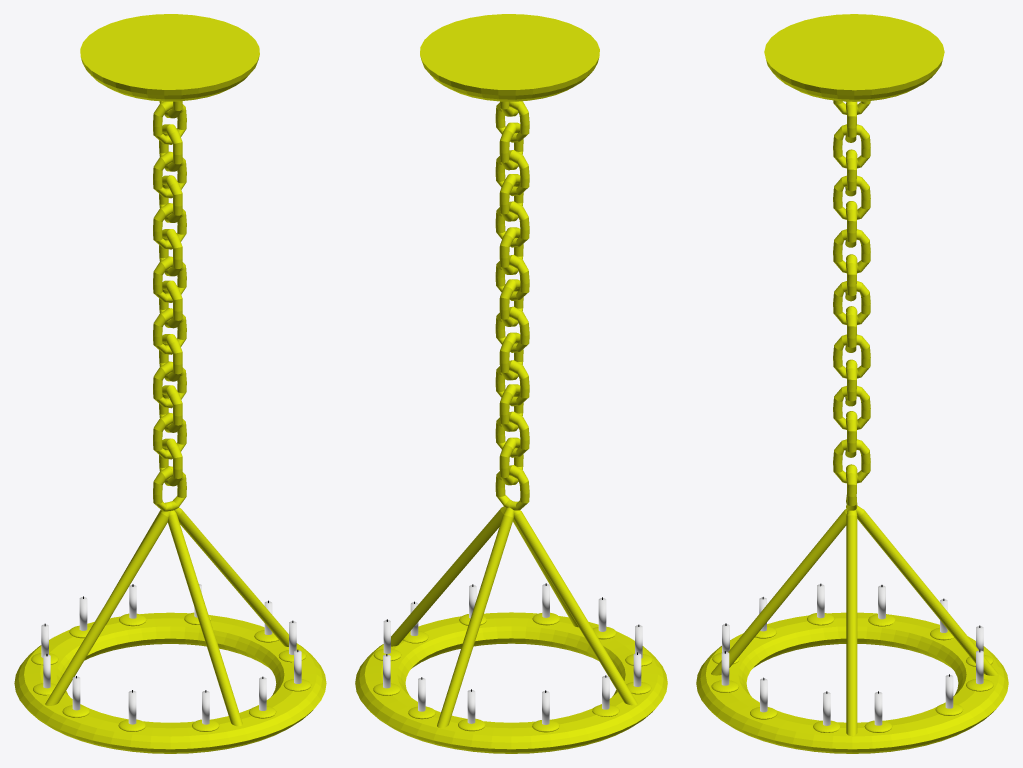
Rendered from Chandelier.fbx.
3 renders of one model, left to right at view 1: azimuth 30°, elevation 25°; view 2: azimuth 150°, elevation 25°; view 3: azimuth 270°, elevation 25°, orthographic.
Parts seen in each view (by area): view 1: Sphere, Cylinder.010, Cylinder.005, Cylinder.013, Cylinder.002, Cylinder.009, Cylinder.006, Cylinder.014, Cylinder.001, Cylinder.003, Cylinder.011, Cylinder.012 (+4 smaller); view 2: Sphere, Cylinder.010, Cylinder.013, Cylinder.014, Cylinder.009, Cylinder.002, Cylinder.005, Cylinder.006, Cylinder.012, Cylinder.011, Cylinder.003, Cylinder.001 (+4 smaller); view 3: Sphere, Cylinder.003, Cylinder.011, Cylinder.012, Cylinder.004, Cylinder.007, Cylinder.008, Cylinder.015.
Boxes of the visible parts, bbox=[...] form: Sphere: bbox=[14, 14, 326, 753]; Cylinder.010: bbox=[153, 466, 186, 511]; Cylinder.005: bbox=[153, 256, 186, 302]; Cylinder.013: bbox=[153, 361, 186, 408]; Cylinder.002: bbox=[153, 151, 186, 198]; Cylinder.009: bbox=[153, 412, 186, 459]; Cylinder.006: bbox=[153, 203, 186, 249]; Cylinder.014: bbox=[153, 308, 186, 354]; Cylinder.001: bbox=[153, 101, 186, 144]; Cylinder.003: bbox=[159, 124, 182, 171]; Cylinder.011: bbox=[159, 438, 182, 486]; Cylinder.012: bbox=[159, 334, 182, 381]; Sphere: bbox=[355, 14, 667, 753]; Cylinder.010: bbox=[495, 465, 529, 510]; Cylinder.013: bbox=[495, 360, 529, 406]; Cylinder.014: bbox=[495, 306, 529, 352]; Cylinder.009: bbox=[495, 411, 529, 457]; Cylinder.002: bbox=[495, 150, 529, 196]; Cylinder.005: bbox=[495, 254, 529, 300]; Cylinder.006: bbox=[495, 201, 529, 247]; Cylinder.012: bbox=[499, 332, 523, 380]; Cylinder.011: bbox=[499, 437, 523, 485]; Cylinder.003: bbox=[499, 122, 523, 170]; Cylinder.001: bbox=[495, 101, 529, 142]; Sphere: bbox=[696, 14, 1008, 753]; Cylinder.003: bbox=[833, 124, 870, 168]; Cylinder.011: bbox=[833, 439, 870, 483]; Cylinder.012: bbox=[833, 334, 870, 378]; Cylinder.004: bbox=[833, 229, 870, 273]; Cylinder.007: bbox=[833, 175, 870, 219]; Cylinder.008: bbox=[833, 386, 870, 429]; Cylinder.015: bbox=[833, 281, 870, 324].
Size of the model in its own units: 346 by 784 by 346.
